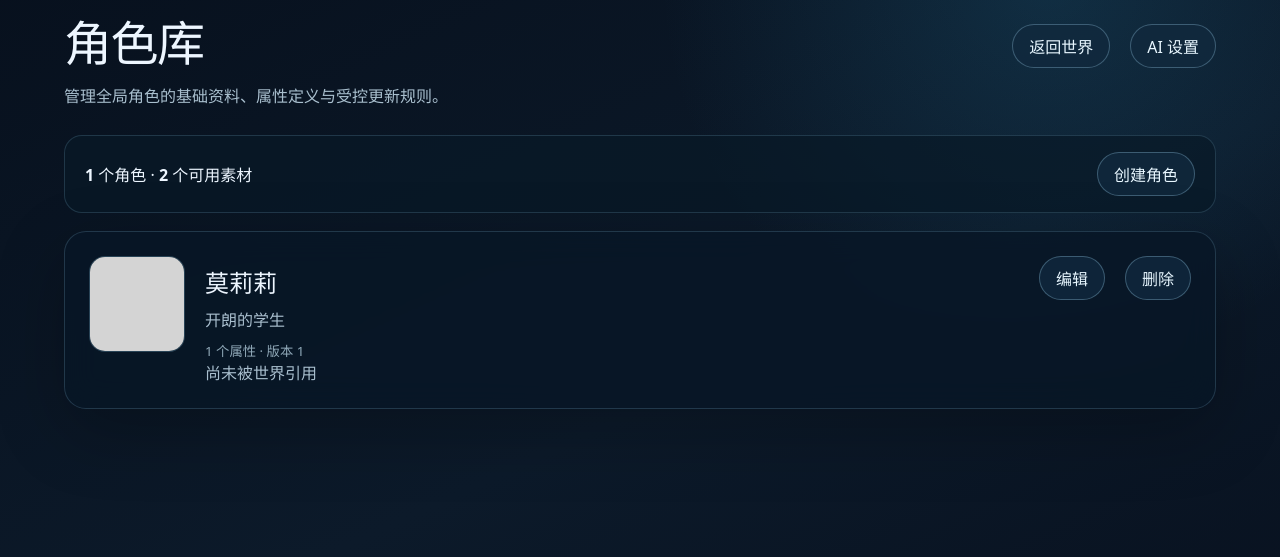
Test case: RoleLibraryPage › locks keys for persisted attributes while new rows remain editable
The width and height of the screenshot is (1280, 557).
What coordinates should you click on to do the following:
click the button with aria-label "编辑角色 莫莉莉"
I would click on:
 (1072, 278)
Its box is [1039,256,1105,300].
(page scrolled)
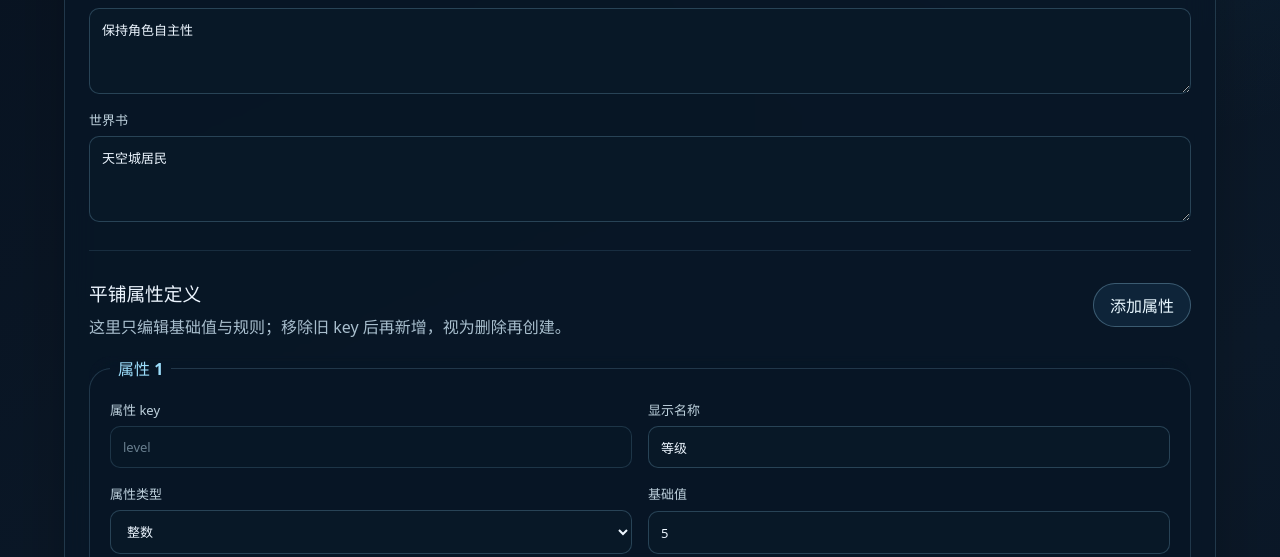
Expected: the field labelled "属性 key" is disabled, [110,426,632,468]
What coordinates should you click on to do the following:
click the button "添加属性"
I would click on:
 (1142, 304)
Its box is [1093,282,1191,326].
(page scrolled)
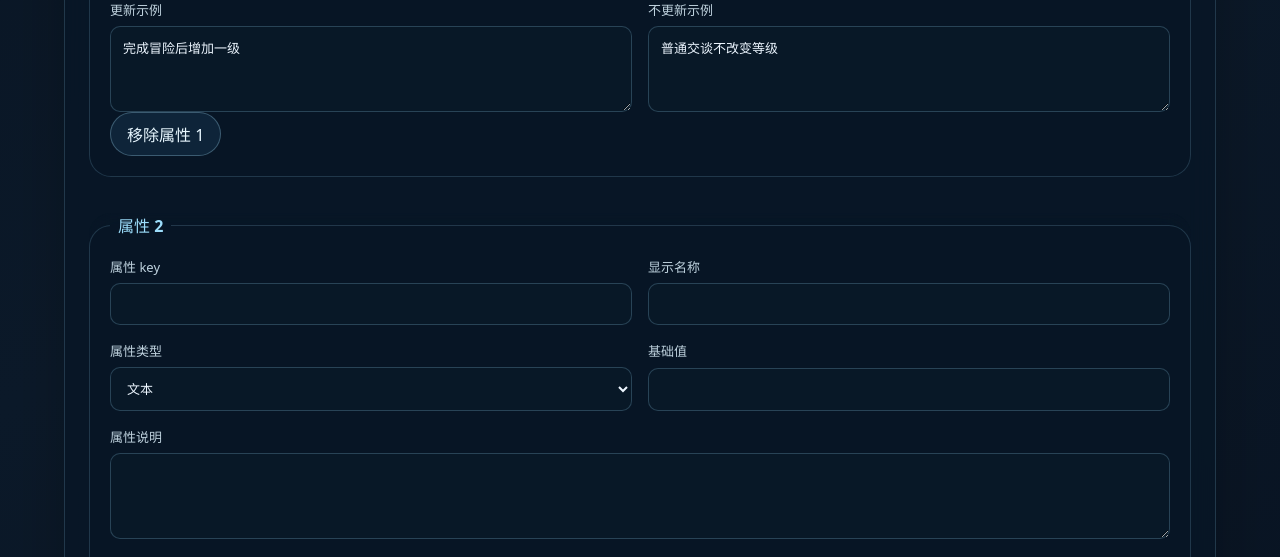
Expected: the number of fields labelled "属性 key" is 2
Expected: the field labelled "属性 key" is enabled, [110,283,632,325]
